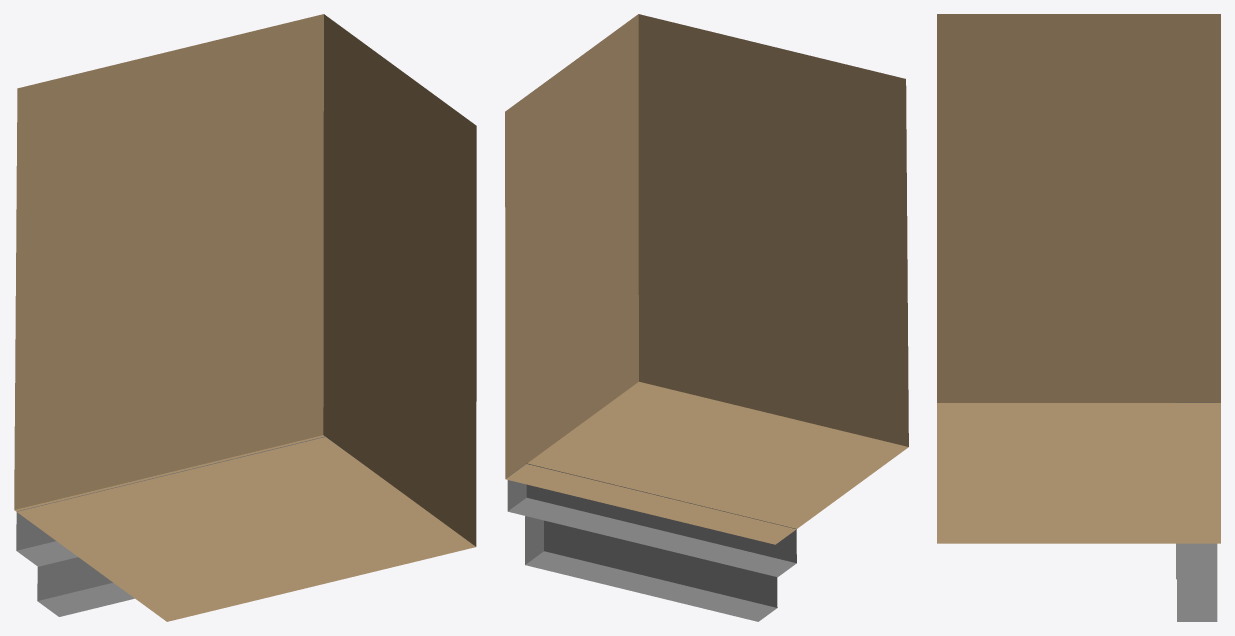
3 renders of one model, left to right at view 1: azimuth 30°, elevation 25°; view 2: azimuth 150°, elevation 25°; view 3: azimuth 270°, elevation 25°, orthographic. The views are drawn at different scales.
Visible parts, largest first — view 1: 0_2_0_1_2_2_1_3; view 2: 0_2_0_1_2_2_1_3; view 3: 0_2_0_1_2_2_1_3.
Part boxes in pixels (box(x1,y1,x2,y2)): 0_2_0_1_2_2_1_3: box(14, 14, 476, 621); 0_2_0_1_2_2_1_3: box(505, 14, 908, 621); 0_2_0_1_2_2_1_3: box(937, 14, 1220, 621).
Size of the model in its own units: 24.59 by 39.1 by 21.
